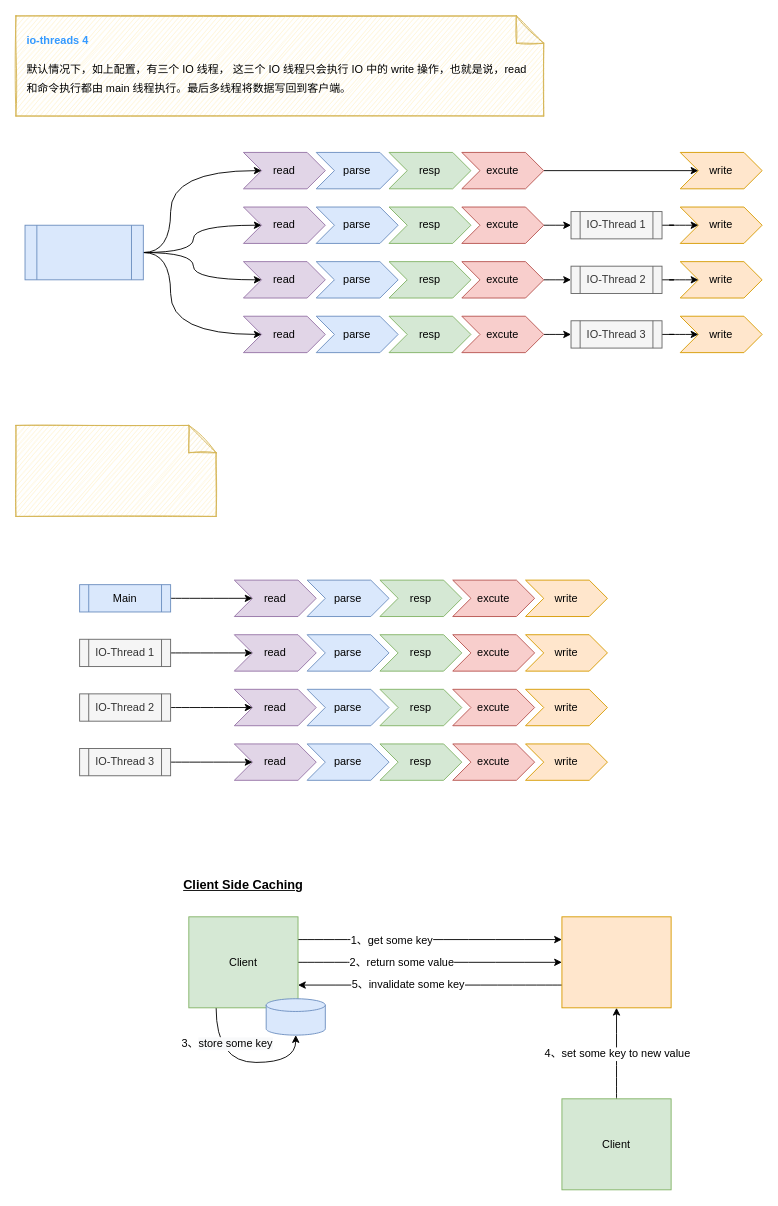
The diagram is 778 pixels wide and 1206 high, and some of its shapes have lost their labels. Here are the shapes that lost their labels. From the top down, the centre of each, then its label:
[83,252]: Main-Thread 1
[115,470]: io-threads-do-reads yes 将支持IO线程执行 读写任务
[616,962]: Server
[295,1016]: local cache
